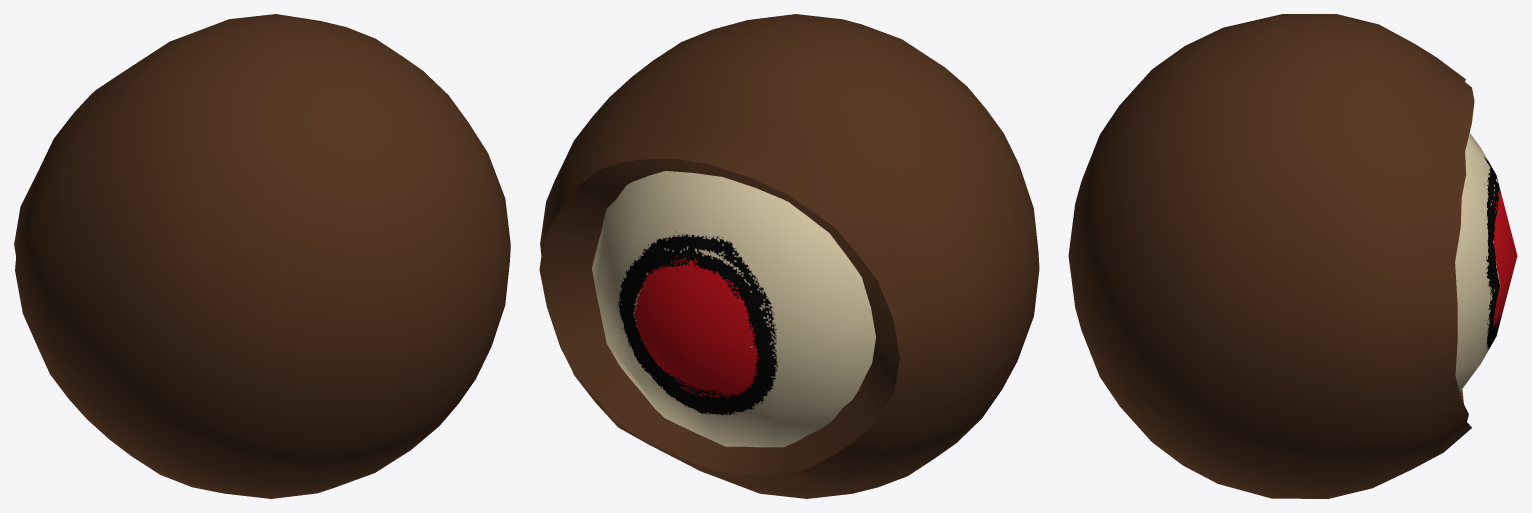
File: eyeBaddie.fbx
The picture shows the model from 3 angles, left to right: view 1: azimuth 30°, elevation 25°; view 2: azimuth 150°, elevation 25°; view 3: azimuth 270°, elevation 25°; orthographic projection.
Parts seen in each view (by area): view 1: Cube.001; view 2: Cube.001, Cube; view 3: Cube.001, Cube.
Boxes of the visible parts, x1,y1,x2,y2 form: Cube.001: (14, 14, 510, 498); Cube.001: (539, 14, 1039, 498); Cube: (592, 171, 875, 447); Cube.001: (1068, 14, 1474, 498); Cube: (1455, 133, 1517, 391).
Bounding box in the file's own units: 18.03 × 20.11 × 19.53.
